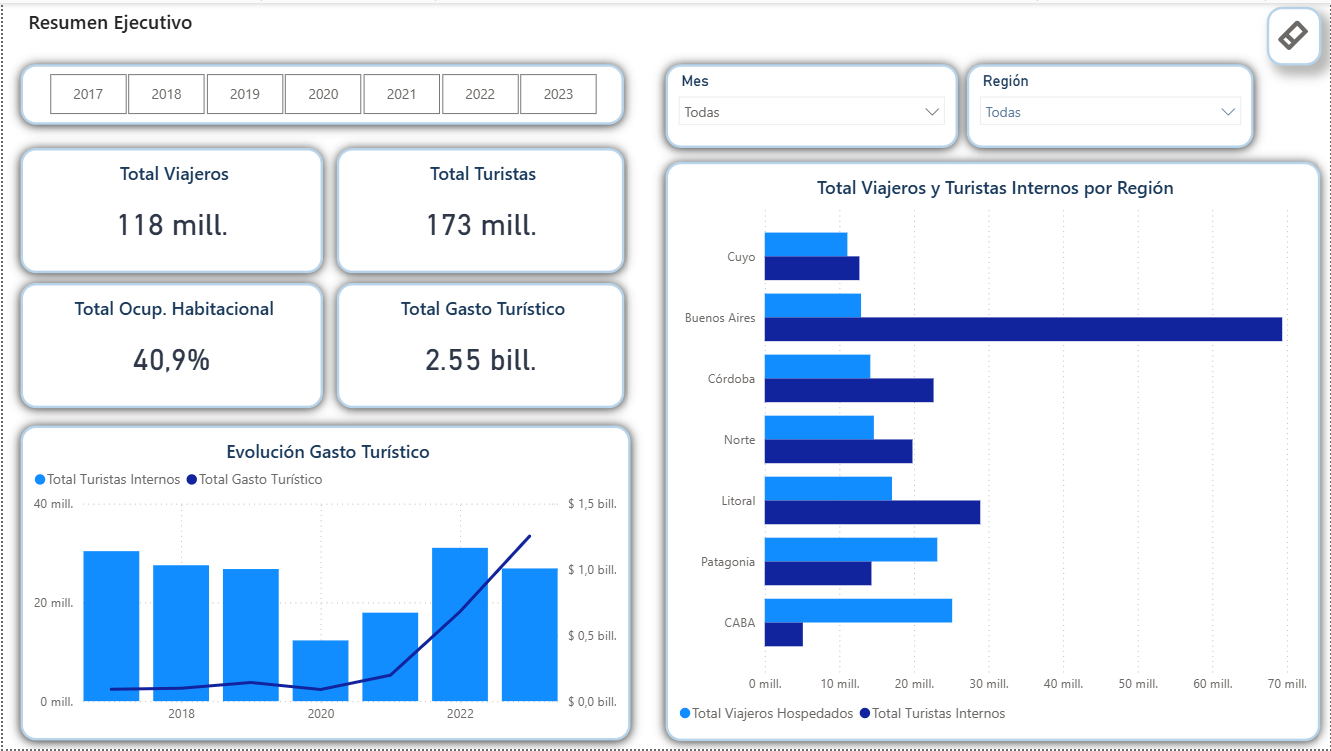

Layout of this report page (visuals, bound fields, positions):
{"tool":"powerbi","page":{"name":"Resumen Ejecutivo","canvas":[1280,720],"ordinal":0},"visuals":[{"type":"card","fields":{"Values":["Grupo de cálculo.KPI_Pernoctes_Visual"]},"box":[16.9,139.9,292,120.6],"z":0},{"type":"card","fields":{"Values":["Grupo de cálculo.KPI_Turistas_Visual"]},"box":[322.1,139.9,277.5,120.6],"z":1000},{"type":"card","fields":{"Values":["Grupo de cálculo.KPI_Ocup_Hab_Visual"]},"box":[16.9,270.2,292,120.6],"z":2000},{"type":"slicer","fields":{"Values":["DIM_Fecha.Mes_Nombre"]},"box":[640,59.5,282.2,80.6],"z":5000},{"type":"slicer","fields":{"Values":["DIM_Region.Region"]},"box":[930.3,59.5,277.2,80.6],"z":6000},{"type":"actionButton","box":[1219.5,3,52.4,56.4],"z":7000},{"type":"card","fields":{"Values":["Grupo de cálculo.KPI_Gasto_Turistico_Visual"]},"box":[322.1,270.2,277.5,120.6],"z":8000},{"type":"clusteredBarChart","title":"Total Viajeros y Turistas Internos  por Región","fields":{"Category":["DIM_Region.Region"],"Y":["MEDIDAS_Hoteleria.Total Viajeros","MEDIDAS_TurismoInterno.Total Turistas Internos"]},"box":[640,153.2,631.9,559.4],"z":9000},{"type":"lineStackedColumnComboChart","fields":{"Category":["DIM_Fecha.Anio"],"Y":["MEDIDAS_TurismoInterno.Total Turistas Internos"],"Y2":["MEDIDAS_TurismoInterno.Total Gasto Turístico"]},"box":[17.1,408.2,588.6,304.4],"z":10000},{"type":"textbox","box":[18.8,0,470.3,59.2],"z":11000},{"type":"slicer","title":"Año","fields":{"Values":["DIM_Fecha.Anio"]},"box":[17.1,59.5,582.6,58.5],"z":12000}]}

Visuals, with their boxes in screenshot pixels (x1, y1, x2, y2), scaled from the page's 1280x720 canvas onto the 1331x751 screenshot:
card - Grupo de cálculo.KPI_Pernoctes_Visual: locate(18, 146, 321, 272)
card - Grupo de cálculo.KPI_Turistas_Visual: locate(335, 146, 623, 272)
card - Grupo de cálculo.KPI_Ocup_Hab_Visual: locate(18, 282, 321, 408)
slicer - DIM_Fecha.Mes_Nombre: locate(666, 62, 959, 146)
slicer - DIM_Region.Region: locate(967, 62, 1256, 146)
actionButton: locate(1268, 3, 1323, 62)
card - Grupo de cálculo.KPI_Gasto_Turistico_Visual: locate(335, 282, 623, 408)
"Total Viajeros y Turistas Internos  por Región" clusteredBarChart: locate(666, 160, 1323, 743)
lineStackedColumnComboChart - DIM_Fecha.Anio x MEDIDAS_TurismoInterno.Total Turistas Internos: locate(18, 426, 630, 743)
textbox: locate(20, 0, 509, 62)
"Año" slicer: locate(18, 62, 624, 123)
